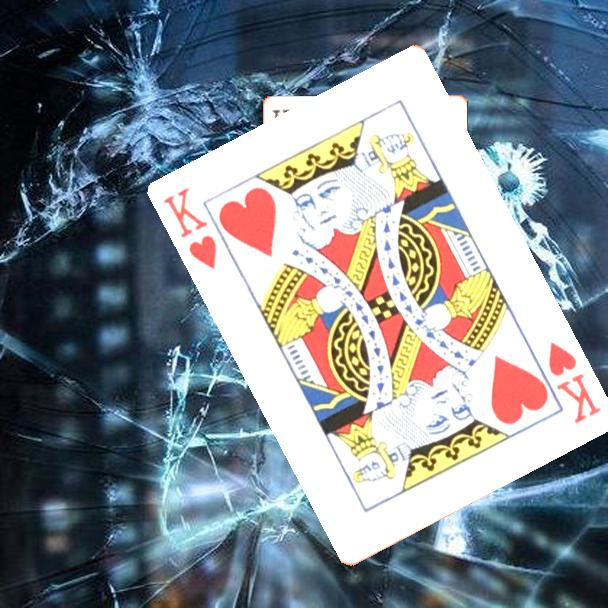h13: (545, 338, 605, 427), (161, 184, 221, 273)
